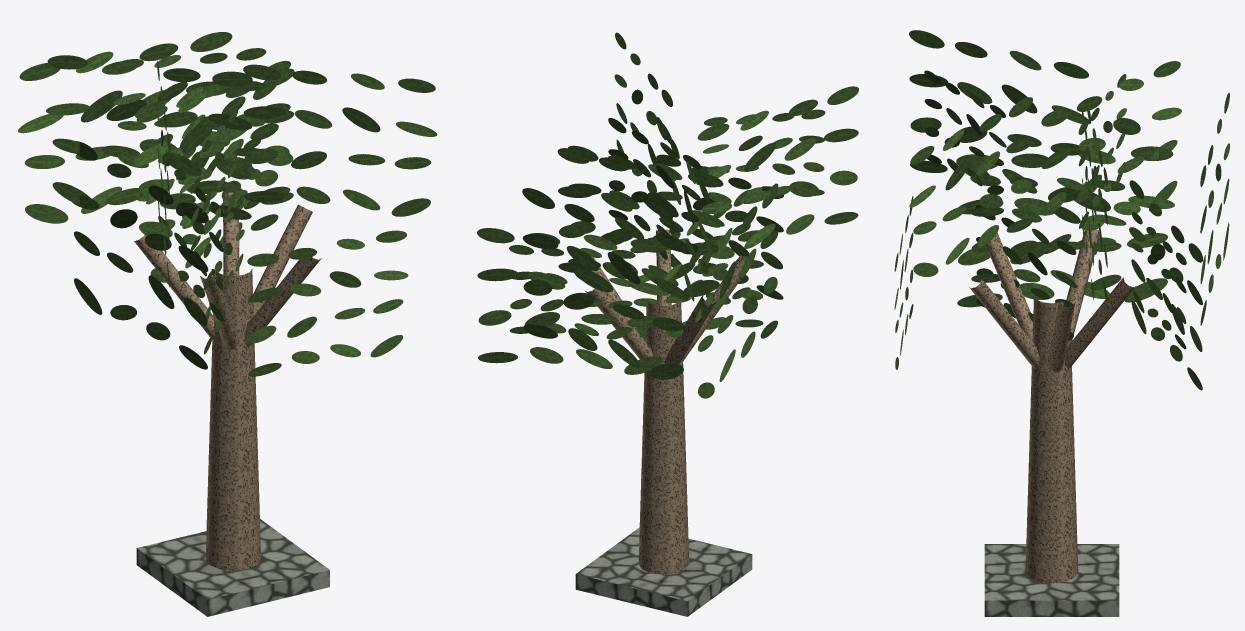
The model's file is tree.glb.
3 renders of one model, left to right at view 1: azimuth 30°, elevation 25°; view 2: azimuth 150°, elevation 25°; view 3: azimuth 270°, elevation 25°, orthographic. The views are drawn at different scales.
Parts seen in each view (by area): view 1: LocustTree; view 2: LocustTree; view 3: LocustTree.
Boxes of the visible parts, x1,y1,x2,y2 form: LocustTree: [18, 32, 437, 616]; LocustTree: [477, 32, 858, 616]; LocustTree: [894, 30, 1229, 616].
Size of the model in its own units: 3.35 by 6.26 by 3.75.
3 materials, 3 textured.
